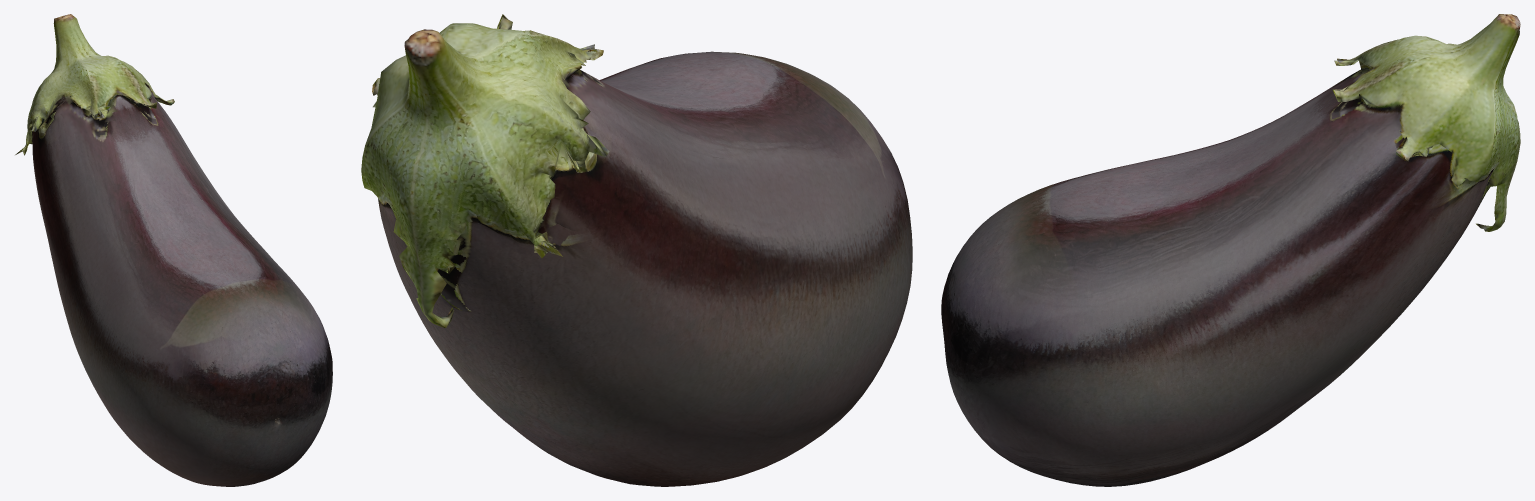
File: eggplant.fbx
The picture shows the model from 3 angles, left to right: view 1: azimuth 30°, elevation 25°; view 2: azimuth 150°, elevation 25°; view 3: azimuth 270°, elevation 25°; orthographic projection. The views are drawn at different scales.
Parts seen in each view (by area): view 1: texture_mapping; view 2: texture_mapping; view 3: texture_mapping.
Part boxes in pixels (box(x1,y1,x2,y2)): texture_mapping: box(15, 14, 332, 486); texture_mapping: box(361, 14, 912, 486); texture_mapping: box(941, 14, 1520, 486).
Bounding box in the file's own units: 0.5094 × 0.9977 × 0.8684.
1 material, 1 textured.
